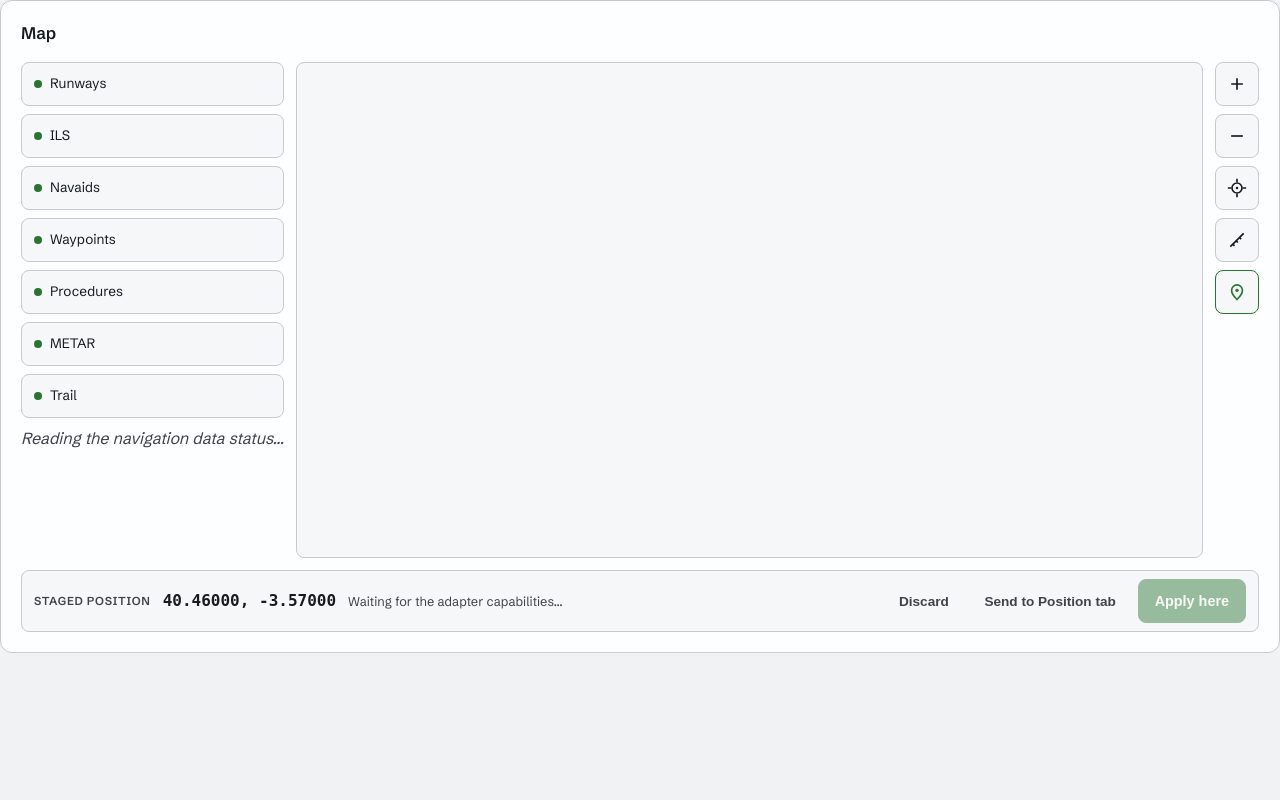
Scenario: MapPanel › sends a staged position to the Position tab as a coordinate placement
Check: the text "40.46000, -3.57000" is shown, box [163,589,336,613]
Click the button "Send to Position tab".
click(1050, 601)  # box [971,579,1130,623]
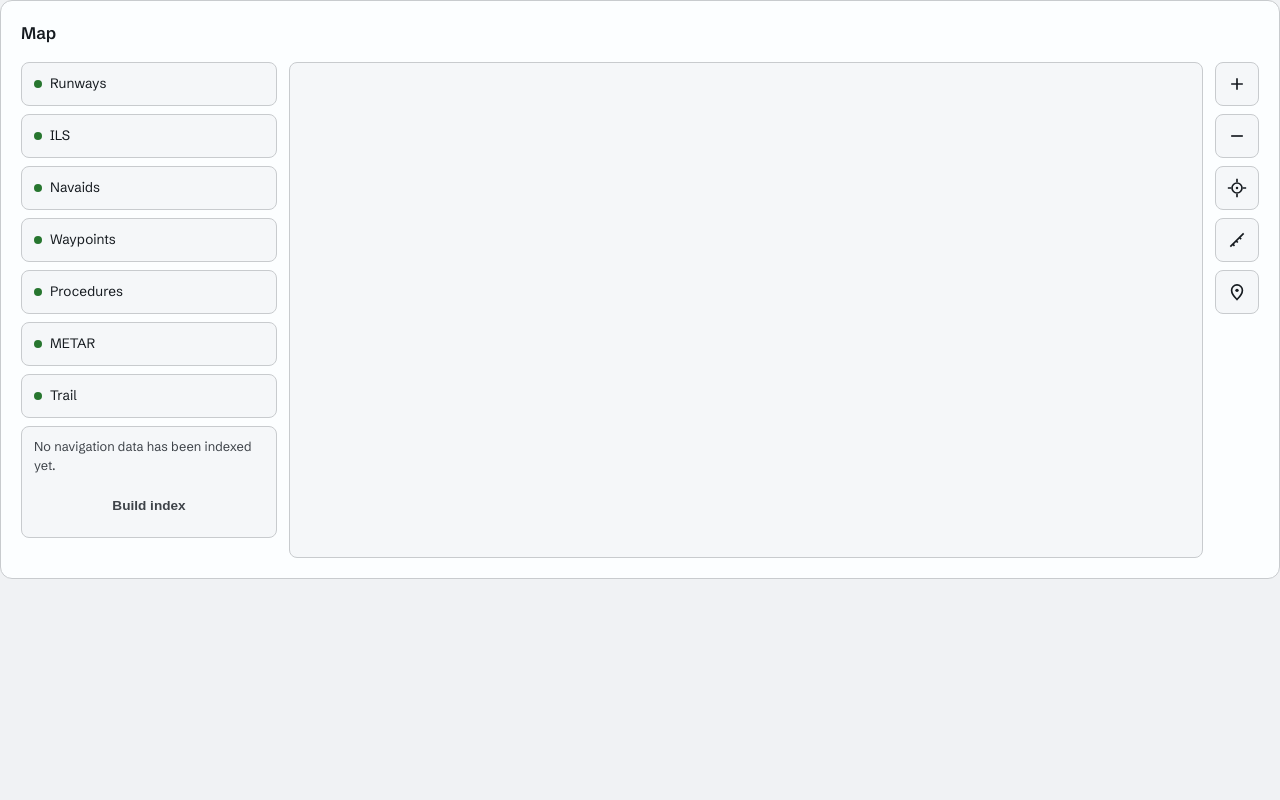
Check: the text "No navigation data has been indexed yet." is shown, box [34,437,264,475]
